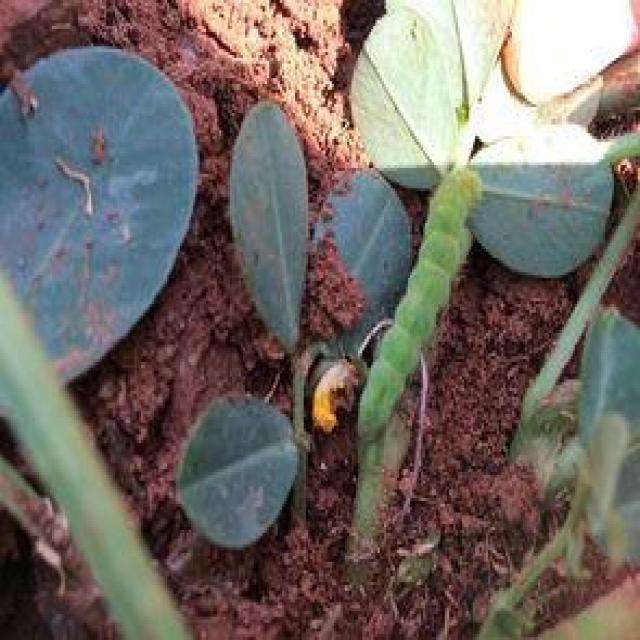BeetArmyWorm-Larva-: (352, 162, 494, 448)
